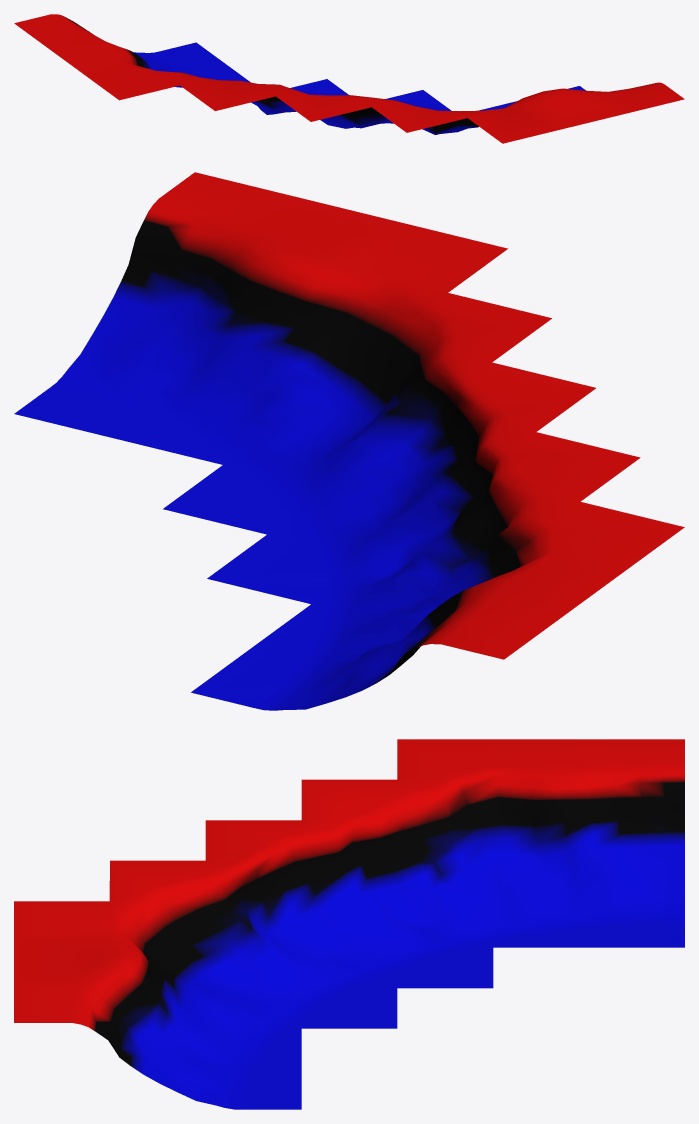
The model's file is RiverBank05A Background.fbx.
3 views of the same model, one above another, from view 1: azimuth 30°, elevation 25°; view 2: azimuth 150°, elevation 25°; view 3: azimuth 270°, elevation 25° (orthographic). The views are drawn at different scales.
Visible parts, largest first — view 1: RiverBank05A Background; view 2: RiverBank05A Background; view 3: RiverBank05A Background.
Part boxes in pixels (bbox=[...]): RiverBank05A Background: bbox=[14, 14, 684, 143]; RiverBank05A Background: bbox=[14, 172, 684, 710]; RiverBank05A Background: bbox=[14, 739, 684, 1109].
Bounding box in the file's own units: 7 × 1.03 × 7.
